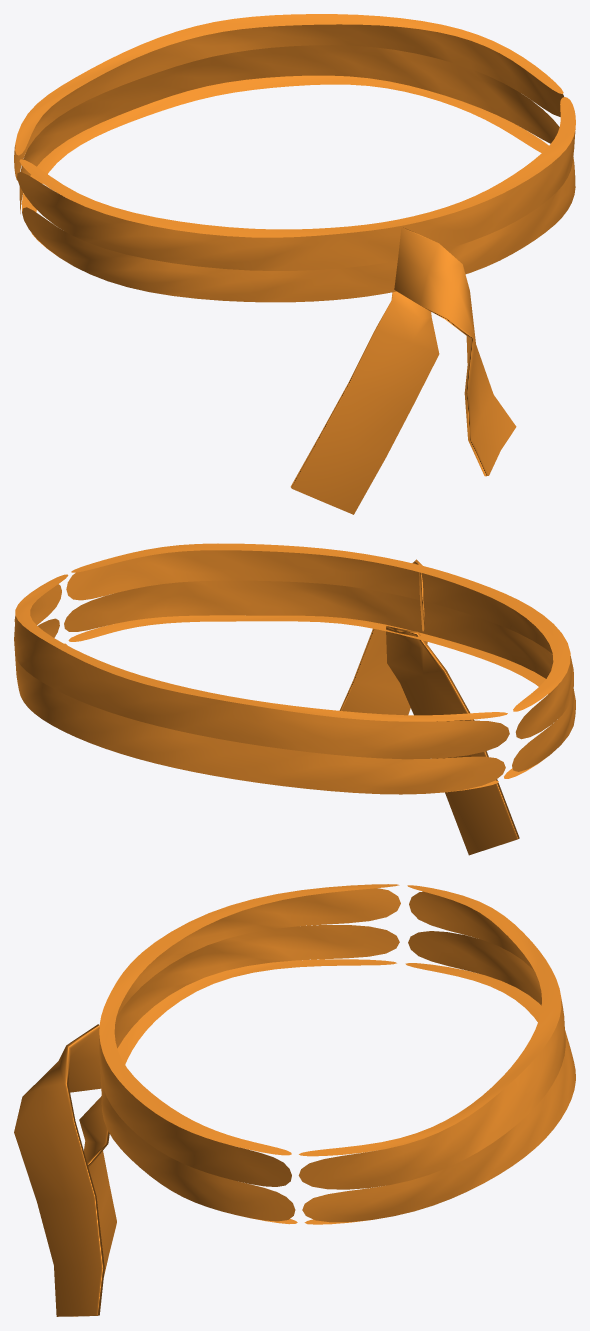
File: belt-orange.glb
3 renders of one model, top to bottom at view 1: azimuth 30°, elevation 25°; view 2: azimuth 150°, elevation 25°; view 3: azimuth 270°, elevation 25°, orthographic. The views are drawn at different scales.
Parts seen in each view (by area): view 1: belt.001, belt2.001, belt3.001; view 2: belt.001, belt2.001, belt3.001; view 3: belt.001, belt3.001, belt2.001.
Part boxes in pixels (box(x1,y1,x2,y2)): belt.001: box(14, 14, 575, 302); belt2.001: box(290, 291, 439, 514); belt3.001: box(394, 227, 516, 476); belt.001: box(14, 543, 575, 794); belt2.001: box(386, 626, 519, 855); belt3.001: box(339, 559, 427, 715); belt.001: box(99, 884, 575, 1224); belt3.001: box(14, 1024, 104, 1316); belt2.001: box(79, 1096, 116, 1275).
Bounding box in the file's own units: 0.3013 × 0.176 × 0.2804.
